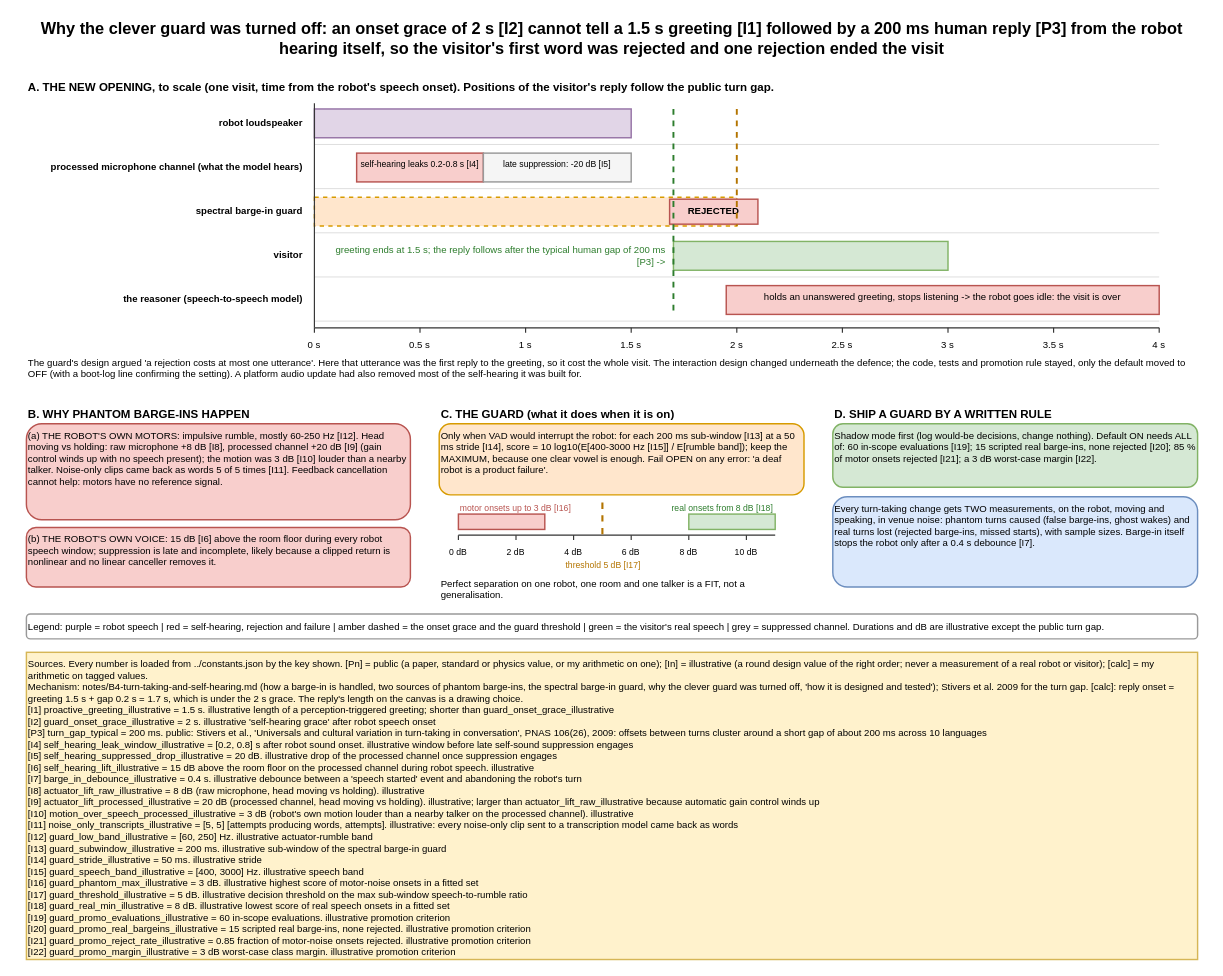
The diagram is 1223 pixels wide and 976 high, and some of its shapes have lost their labels. Each missing label, with the box of its shape:
first reply starts at 1.7 s [calc]: (672, 240, 948, 271)
ONSET GRACE 2 s [I2]: VAD onsets here are rejected: (313, 196, 737, 226)
perception-triggered greeting 1.5 s [I1]: (313, 108, 631, 138)
